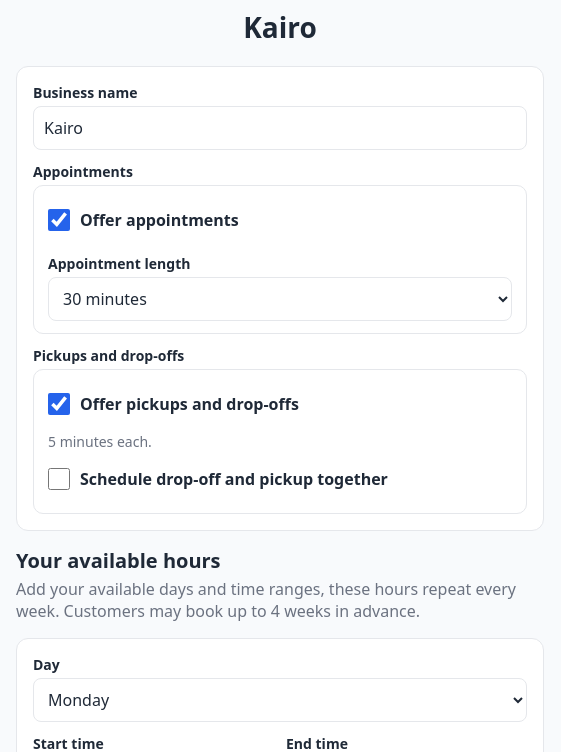
Test: Pickup and drop-off settings › sets the gap in days and hours, up to 28 days
Click the checkbox labelled "Schedule drop-off and pickup together": (59, 479) [48,468,70,490]
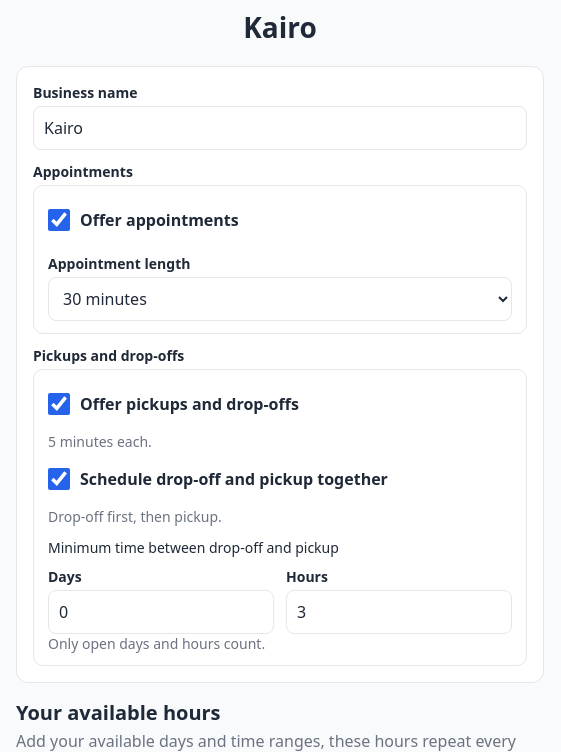
Replace the text in the number field labelled "Days" with "1": (161, 612) [48,590,274,634]
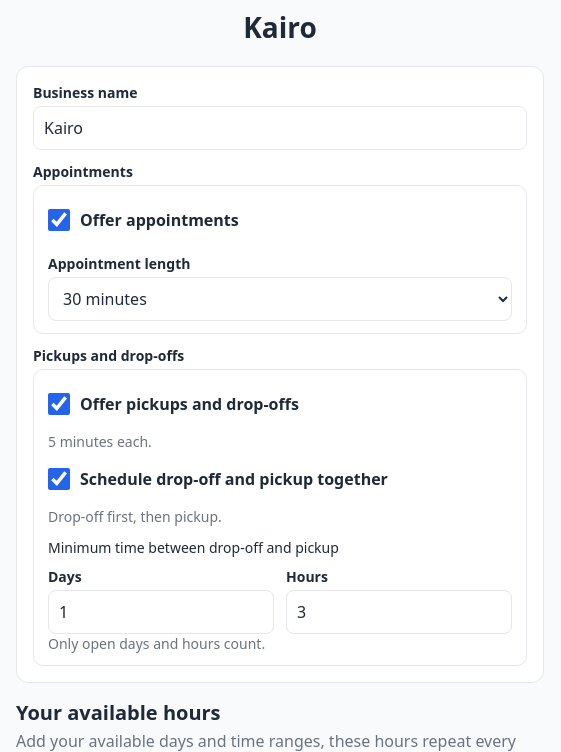
Replace the text in the number field labelled "Hours" with "6": (399, 612) [286,590,512,634]
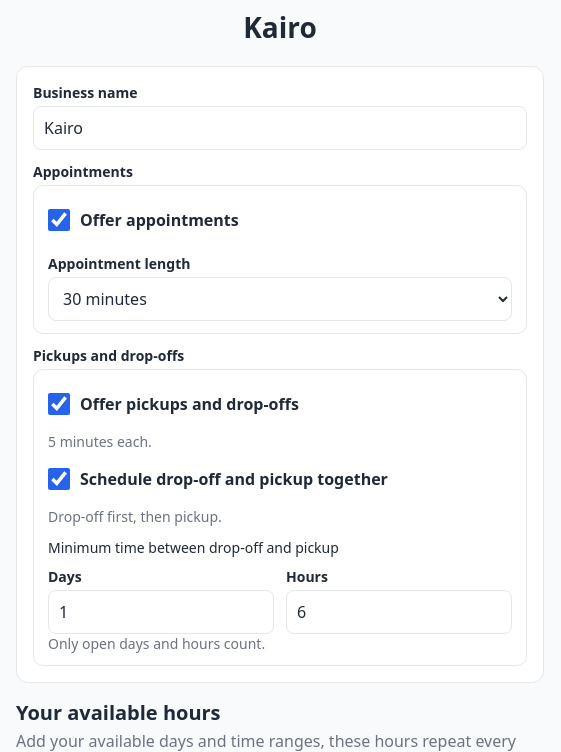
Result: the text "Only open days and hours count." is shown at [48,634,265,653]
Note: Boxes can't go past their limits.
Replace the text in the number field labelled "Days" with "40": (161, 612) [48,590,274,634]
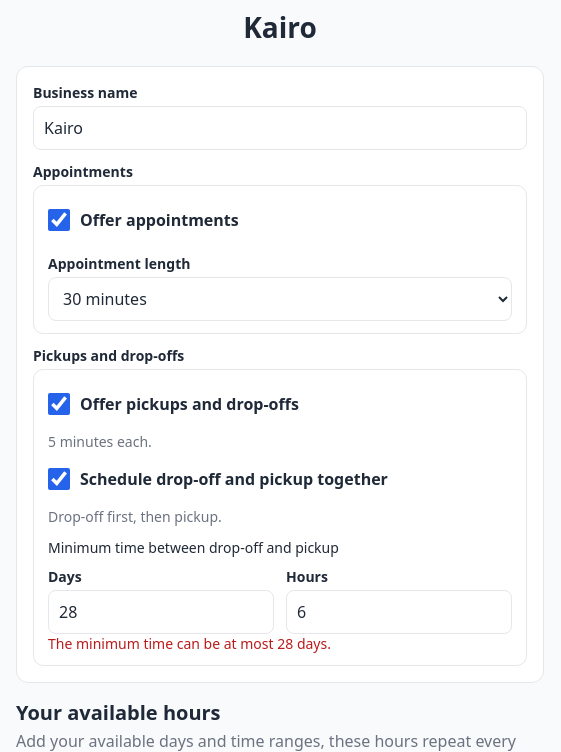
Result: the number field labelled "Days" holds "28" at [48,590,274,634]
Replace the text in the number field labelled "Hours" with "30": (399, 612) [286,590,512,634]
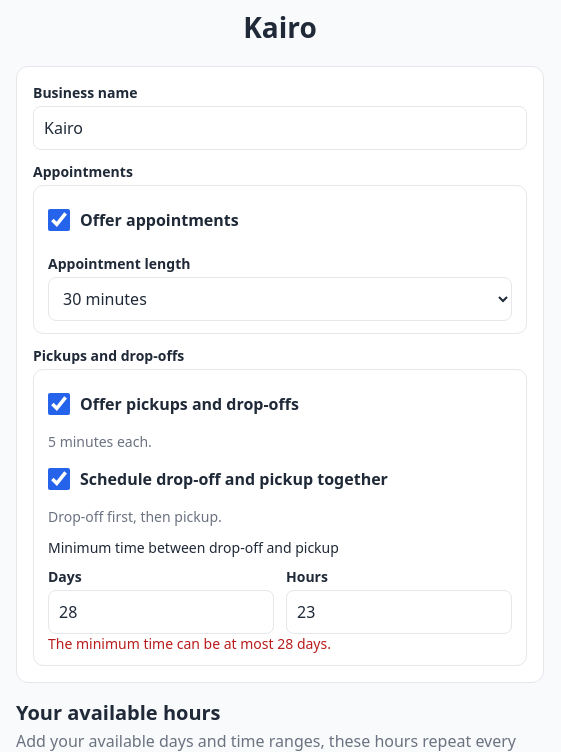
Result: the number field labelled "Hours" holds "23" at [286,590,512,634]
